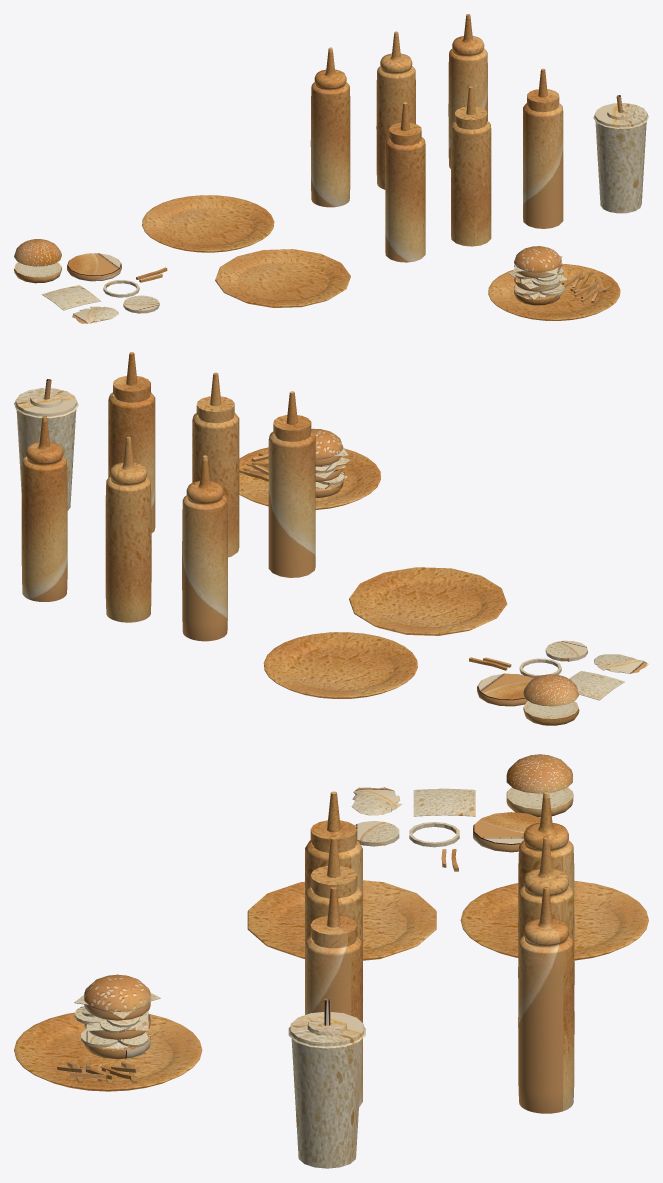
File: Burger.fbx
3 renders of one model, top to bottom at view 1: azimuth 30°, elevation 25°; view 2: azimuth 150°, elevation 25°; view 3: azimuth 270°, elevation 25°, orthographic. The views are drawn at different scales.
Parts seen in each view (by area): view 1: Low_Poly_Plate_01, High_Poly_Plate_01, Style_01_Ketchup_Bottle_01, Style_01_Mutard_Bottle_01, Style_01_Mayonnaise_Bottle_01, Style_02_Ketchup_Bottle_01, Base_Drink_01, High_Poly_Plate_01.001, Style_02_Mutard_Bottle_01, Style_02_Mayonnaise_Bottle_01, Meat_01, Cover_Drink_01 (+6 smaller); view 2: Low_Poly_Plate_01, High_Poly_Plate_01, Style_01_Ketchup_Bottle_01, Style_02_Mutard_Bottle_01, Style_02_Mayonnaise_Bottle_01, Style_02_Ketchup_Bottle_01, Style_01_Mutard_Bottle_01, Style_01_Mayonnaise_Bottle_01, High_Poly_Plate_01.001, Base_Drink_01, Cover_Drink_01, Meat_01 (+6 smaller); view 3: Style_02_Mayonnaise_Bottle_01, High_Poly_Plate_01.001, Base_Drink_01, Low_Poly_Plate_01, High_Poly_Plate_01, Style_01_Mayonnaise_Bottle_01, Style_01_Mutard_Bottle_01, Style_02_Mutard_Bottle_01, Style_01_Ketchup_Bottle_01, Style_02_Ketchup_Bottle_01, Cover_Drink_01, Top_Burger_Bread (+8 smaller).
Part boxes in pixels (x1,y1,x2,y2): Low_Poly_Plate_01: (215,249,350,307); High_Poly_Plate_01: (142,195,274,252); Style_01_Ketchup_Bottle_01: (385,102,425,262); Style_01_Mutard_Bottle_01: (451,86,491,246); Style_01_Mayonnaise_Bottle_01: (523,68,563,228); Style_02_Ketchup_Bottle_01: (310,47,350,207); Base_Drink_01: (595,111,646,213); High_Poly_Plate_01.001: (488,263,620,320); Style_02_Mutard_Bottle_01: (376,31,415,189); Style_02_Mayonnaise_Bottle_01: (448,14,487,168); Meat_01: (67,253,121,281); Cover_Drink_01: (593,103,648,128); Low_Poly_Plate_01: (349,567,507,635); High_Poly_Plate_01: (263,632,417,698); Style_01_Ketchup_Bottle_01: (268,391,315,577); Style_02_Mutard_Bottle_01: (105,436,151,622); Style_02_Mayonnaise_Bottle_01: (21,416,67,601); Style_02_Ketchup_Bottle_01: (182,455,227,641); Style_01_Mutard_Bottle_01: (192,372,239,557); Style_01_Mayonnaise_Bottle_01: (108,352,155,532); High_Poly_Plate_01.001: (239,447,380,509); Base_Drink_01: (16,397,76,510); Cover_Drink_01: (14,388,78,418); Meat_01: (477,673,532,706); Style_02_Mayonnaise_Bottle_01: (518,887,574,1113); High_Poly_Plate_01.001: (14,1012,202,1091); Base_Drink_01: (291,1023,362,1168); Low_Poly_Plate_01: (247,880,436,960); High_Poly_Plate_01: (460,880,648,960); Style_01_Mayonnaise_Bottle_01: (305,887,362,1107); Style_01_Mutard_Bottle_01: (305,837,362,943); Style_02_Mutard_Bottle_01: (518,837,574,984); Style_01_Ketchup_Bottle_01: (305,791,362,893); Style_02_Ketchup_Bottle_01: (518,791,574,938); Cover_Drink_01: (288,1012,365,1048); Top_Burger_Bread: (506,754,572,793).
Bounding box in the file's own units: 25.69 × 6.77 × 17.98.
